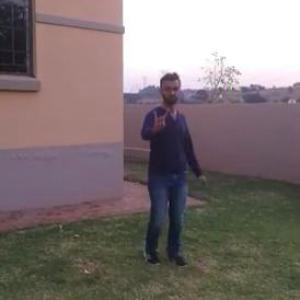takeoff-hand: (148, 99, 173, 132)
